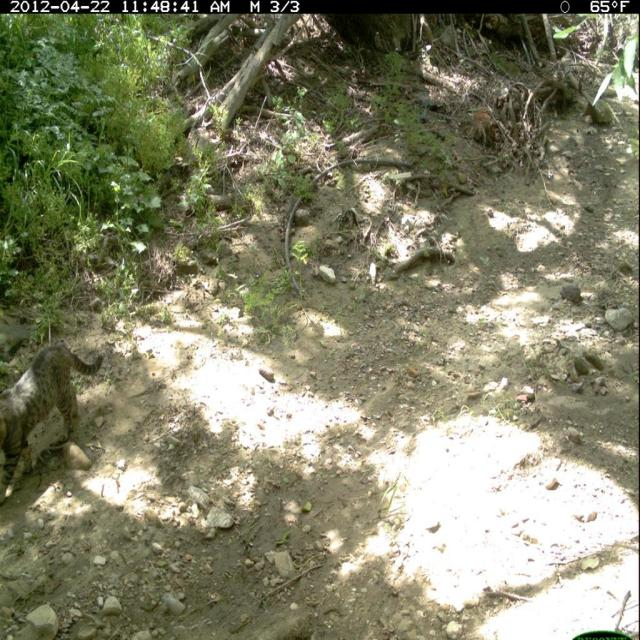cat: (1, 326, 111, 510)
